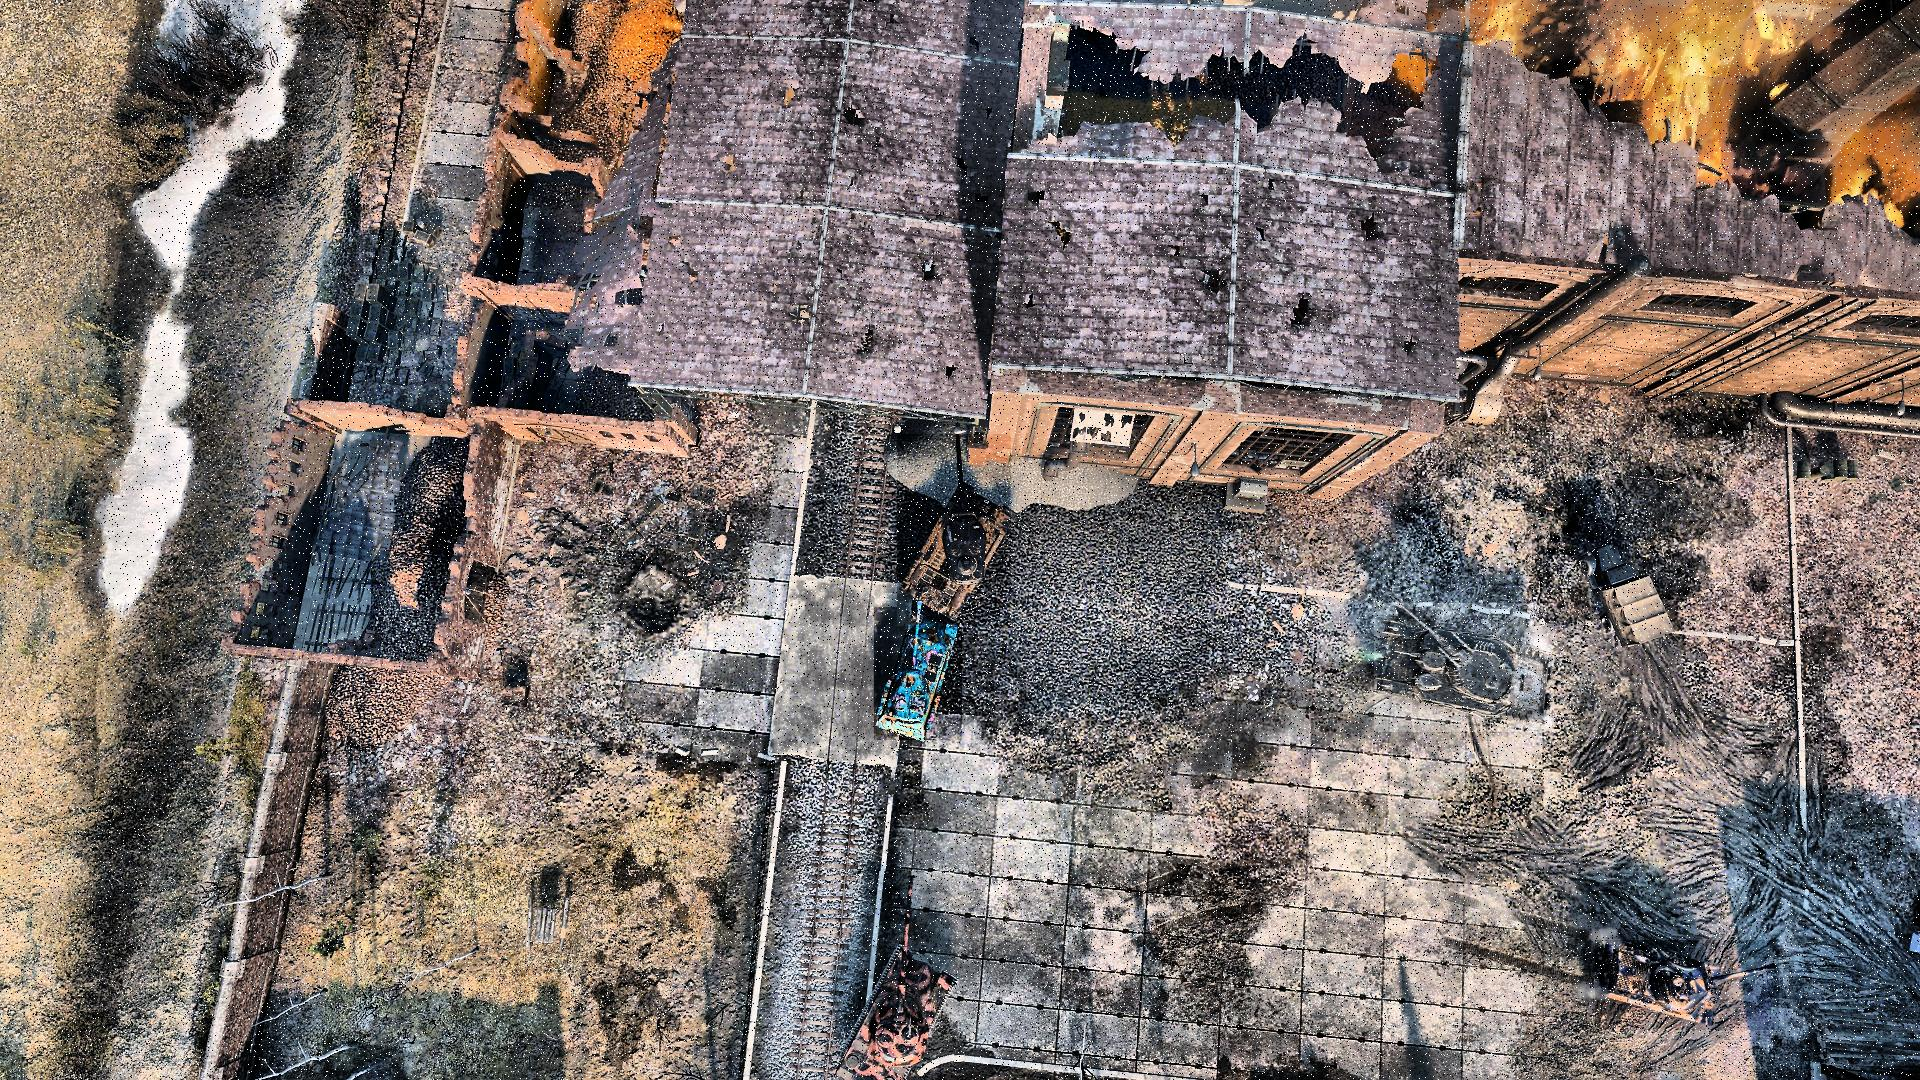military-vehicle: (833, 872, 955, 1080), (1374, 604, 1555, 732), (898, 435, 1011, 626), (1596, 940, 1780, 1030), (874, 607, 963, 740)
